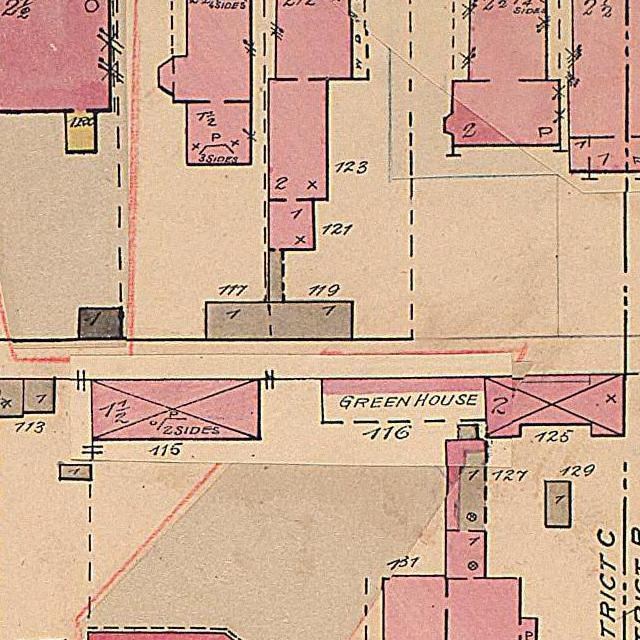building-footprints: (383, 440, 537, 640), (269, 0, 352, 250), (445, 0, 560, 145), (159, 0, 251, 164), (91, 380, 259, 439), (485, 374, 625, 438), (322, 379, 485, 421), (206, 302, 352, 339), (79, 309, 121, 339), (546, 481, 570, 526), (23, 379, 55, 412), (0, 379, 23, 416), (60, 465, 91, 480), (458, 426, 478, 439)
